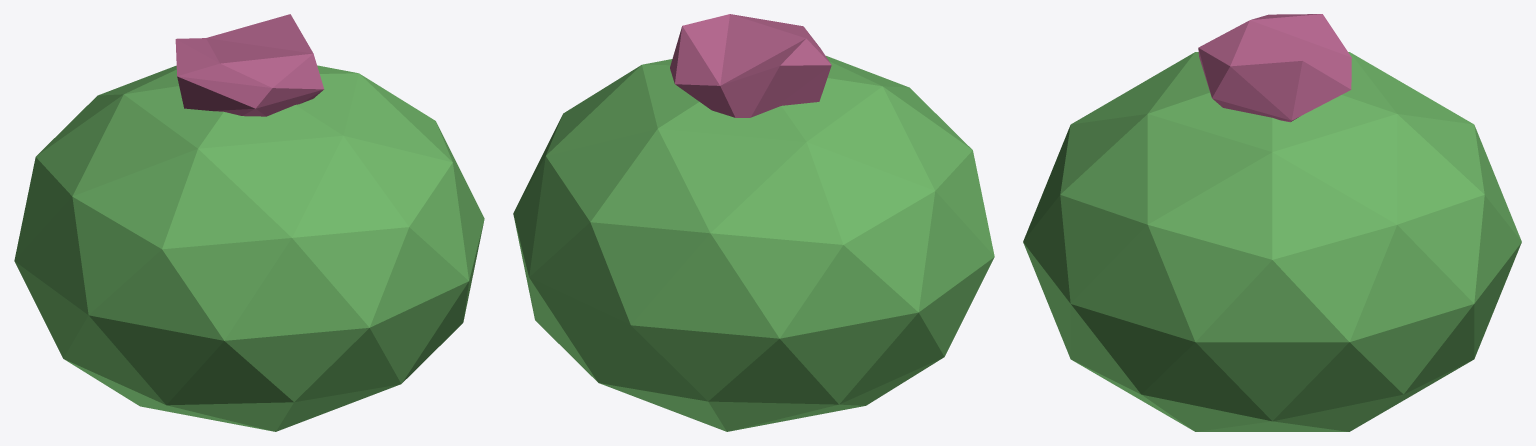
Rendered from Cactus4.fbx.
3 renders of one model, left to right at view 1: azimuth 30°, elevation 25°; view 2: azimuth 150°, elevation 25°; view 3: azimuth 270°, elevation 25°, orthographic. The views are drawn at different scales.
Parts seen in each view (by area): view 1: Cactus4; view 2: Cactus4; view 3: Cactus4.
Part boxes in pixels (x1,y1,x2,y2): Cactus4: [14, 14, 484, 431]; Cactus4: [513, 14, 994, 431]; Cactus4: [1023, 14, 1521, 431].
Bounding box in the file's own units: 1.29 × 1.06 × 1.35.
